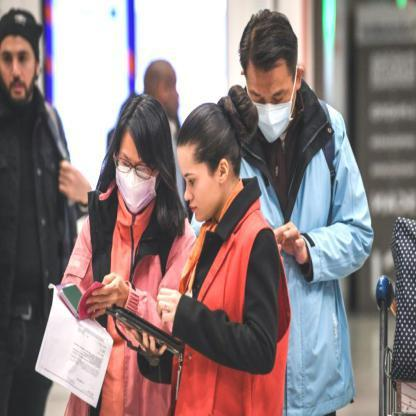with_mask: (241, 9, 303, 147), (113, 89, 174, 217)
without_mask: (179, 82, 246, 228), (2, 5, 49, 101)
